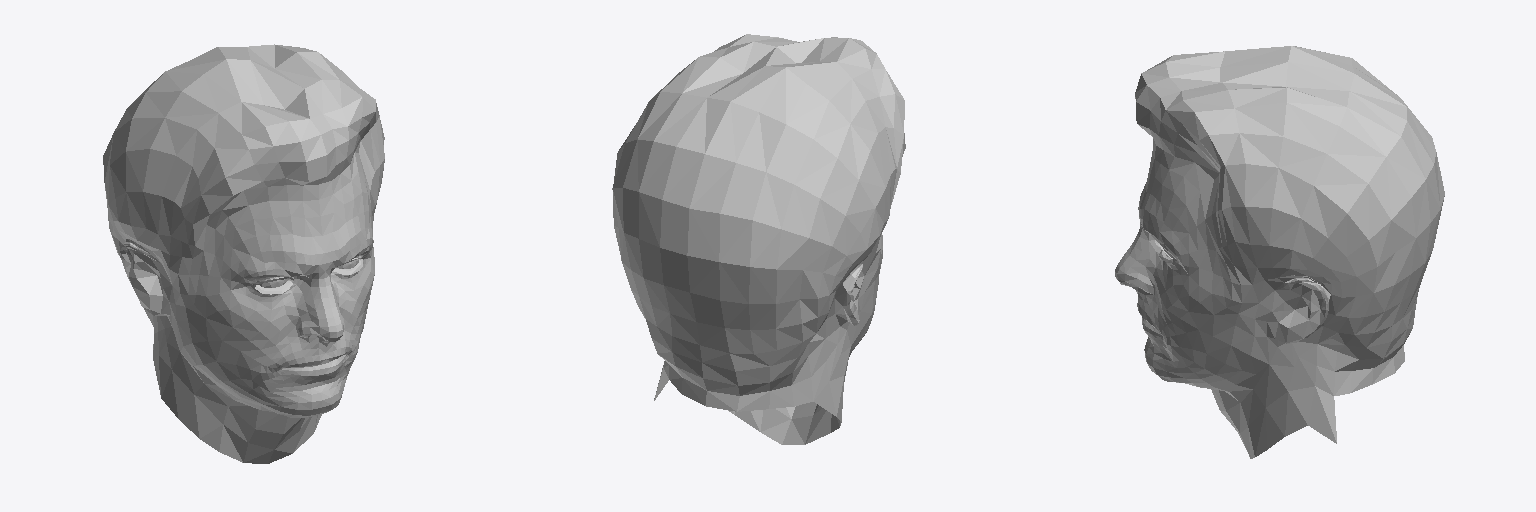
The model's file is glowka2.obj.
3 renders of one model, left to right at view 1: azimuth 30°, elevation 25°; view 2: azimuth 150°, elevation 25°; view 3: azimuth 270°, elevation 25°, orthographic.
Parts seen in each view (by area): view 1: theillusiveman_illHead; view 2: theillusiveman_illHead; view 3: theillusiveman_illHead.
Boxes of the visible parts, <box> form: theillusiveman_illHead: <box>103,44,384,463</box>; theillusiveman_illHead: <box>612,34,905,444</box>; theillusiveman_illHead: <box>1115,46,1444,458</box>.
Size of the model in its own units: 7.3 by 11.67 by 8.8.